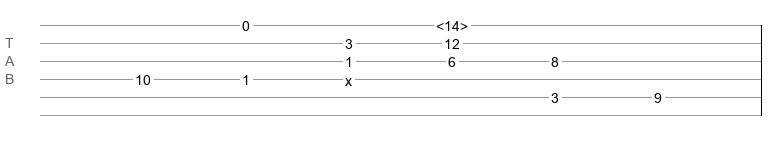0: (242, 18, 250, 28)
1: (242, 72, 250, 82), (345, 54, 353, 64)
10: (135, 72, 151, 82)
12: (444, 36, 460, 46)
3: (345, 36, 353, 46), (551, 90, 559, 100)
6: (448, 54, 456, 64)
8: (551, 54, 559, 64)
9: (654, 90, 662, 100)
harmonic: (436, 18, 468, 28)
x: (345, 73, 352, 81)
